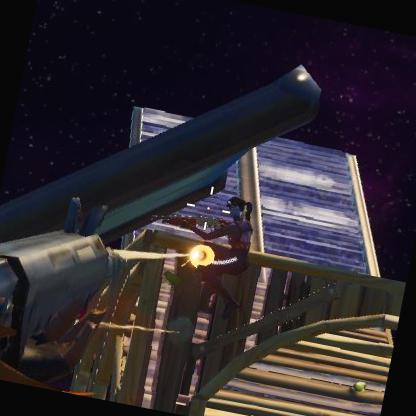person: (193, 198, 254, 308)
